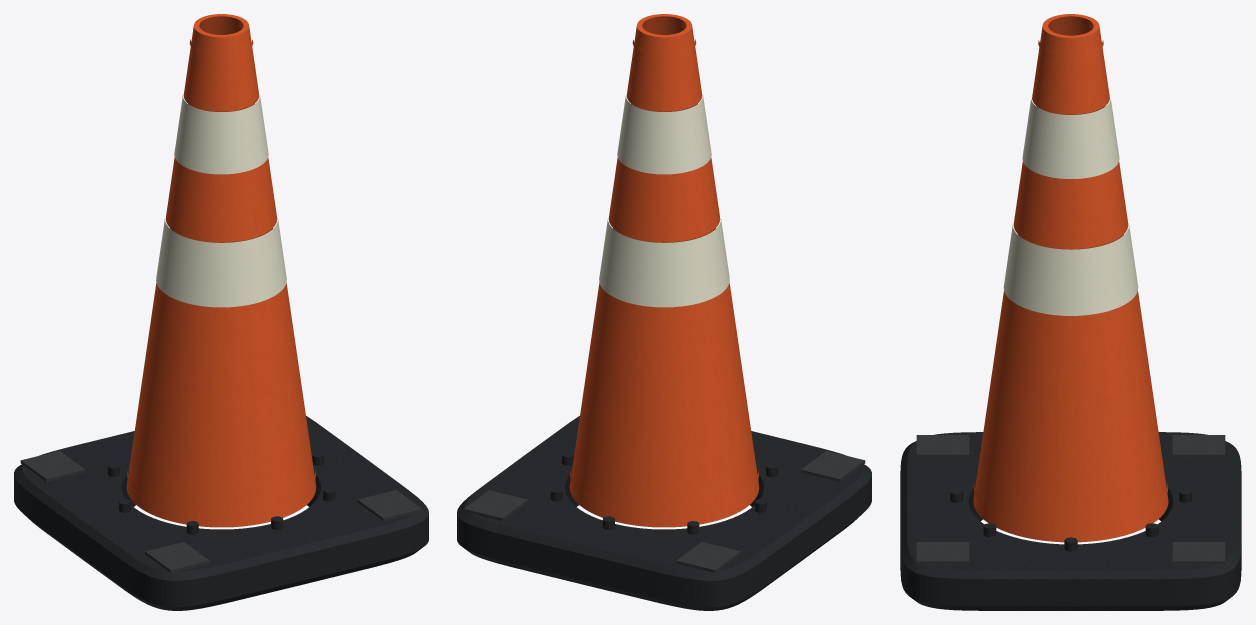
3 views of the same model, side by side, from view 1: azimuth 30°, elevation 25°; view 2: azimuth 150°, elevation 25°; view 3: azimuth 270°, elevation 25° (orthographic). The views are drawn at different scales.
Visible parts, largest first — view 1: VIS_cone_orange, VIS_base_rubber, VIS_reflective_silver, VIS_rubber_edge, VIS_cone_orange_inner; view 2: VIS_cone_orange, VIS_base_rubber, VIS_reflective_silver, VIS_rubber_edge, VIS_cone_orange_inner; view 3: VIS_cone_orange, VIS_base_rubber, VIS_reflective_silver, VIS_rubber_edge, VIS_cone_orange_inner.
Part boxes in pixels (x1,y1,x2,y2): VIS_cone_orange: (126, 14, 316, 527); VIS_base_rubber: (14, 416, 428, 610); VIS_reflective_silver: (156, 96, 286, 307); VIS_rubber_edge: (20, 451, 422, 572); VIS_cone_orange_inner: (170, 16, 272, 242); VIS_cone_orange: (569, 14, 759, 527); VIS_base_rubber: (457, 416, 871, 610); VIS_reflective_silver: (599, 96, 729, 307); VIS_rubber_edge: (463, 451, 865, 572); VIS_cone_orange_inner: (613, 16, 715, 242); VIS_cone_orange: (973, 14, 1168, 542); VIS_base_rubber: (900, 432, 1241, 610); VIS_reflective_silver: (1003, 98, 1138, 315); VIS_rubber_edge: (916, 435, 1225, 564); VIS_cone_orange_inner: (1018, 16, 1123, 249).
Size of the model in its own units: 0.42 by 0.7 by 0.42.
5 materials, 5 textured.
